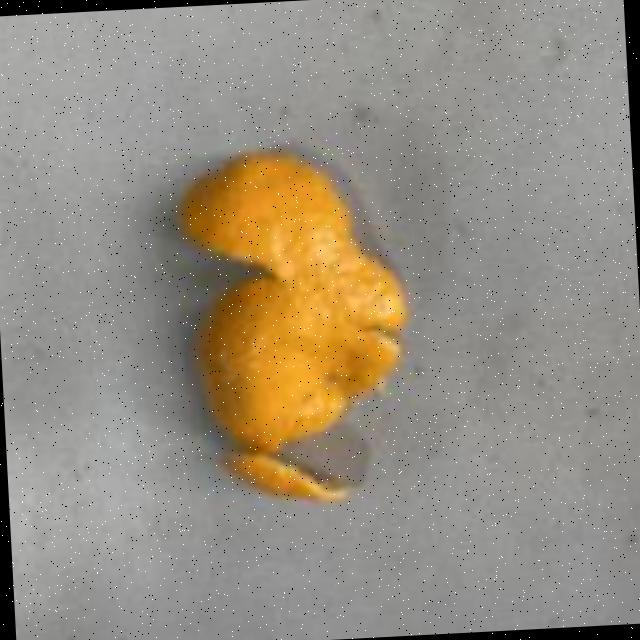orange-peel: (172, 140, 418, 509)
